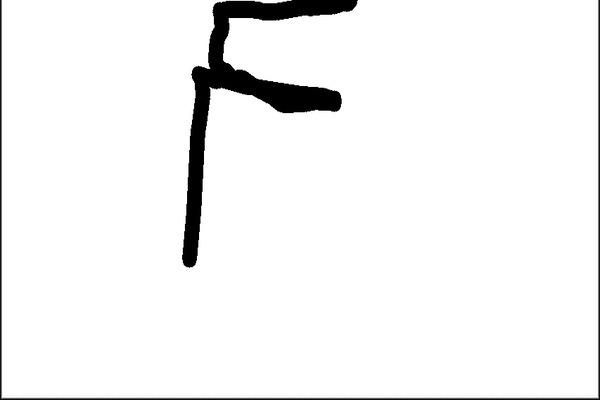F: (176, 0, 363, 269)
